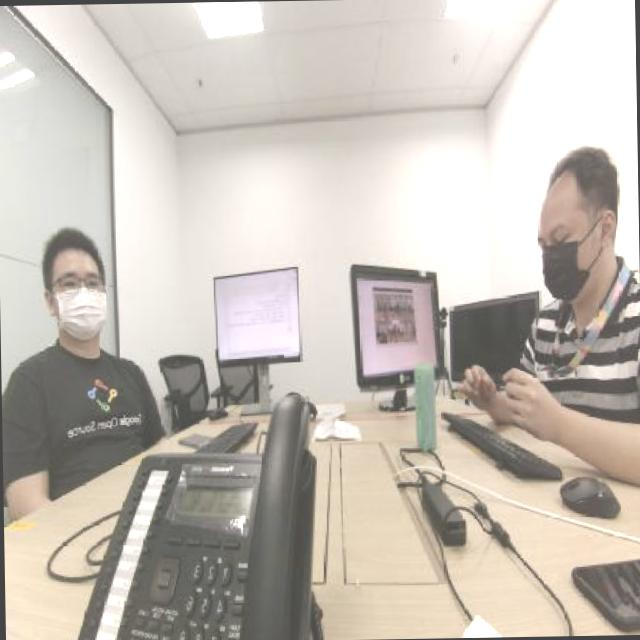Person: (502, 120, 634, 451), (25, 216, 136, 481)
